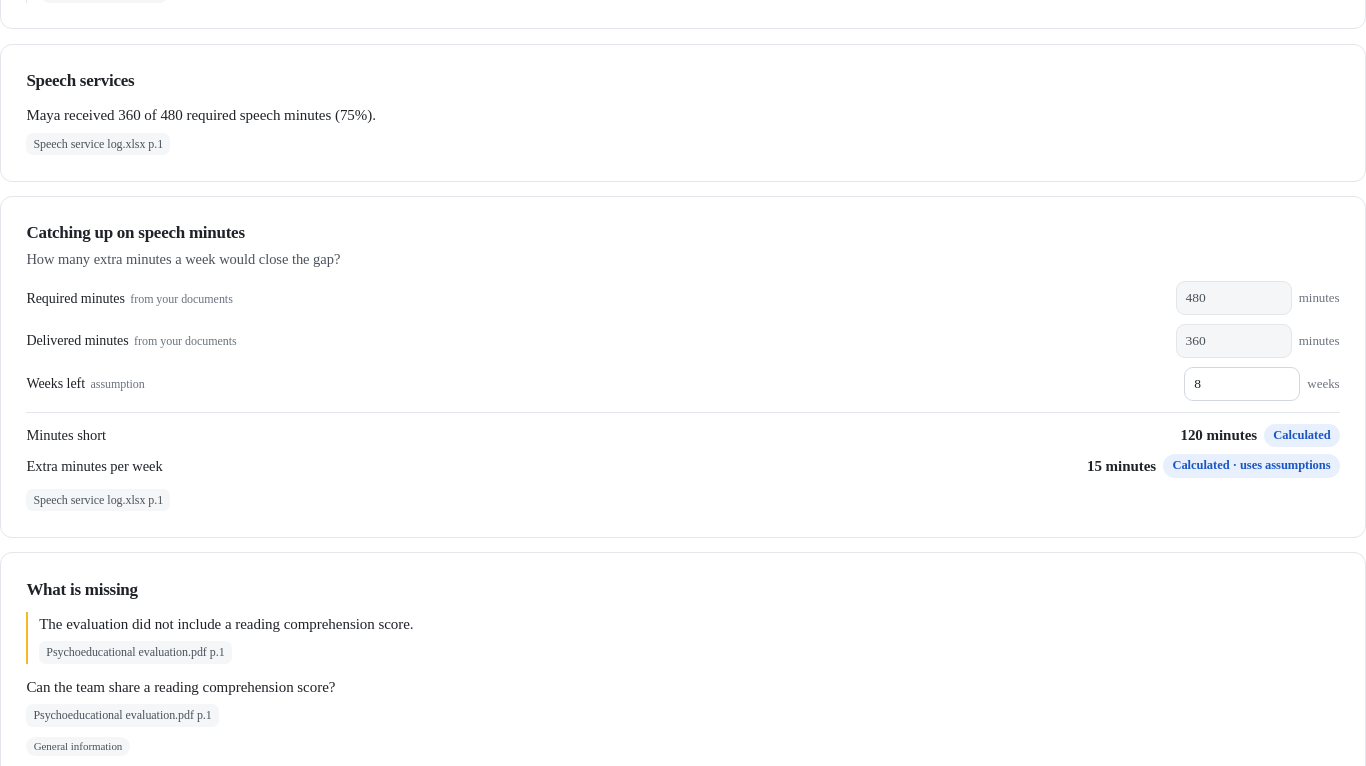
it: A2uiView › recomputes a scenario from changed assumptions only, in trusted code
(page scrolled)
Expected: the list named "Results" shows "120 minutes", x1=1180 y1=427 x2=1257 y2=443
Expected: the list named "Results" shows "15 minutes", x1=1087 y1=458 x2=1156 y2=474
Replace the text in the field labelled "Weeks left" with "4" at (1242, 384), box x1=1184 y1=367 x2=1300 y2=401
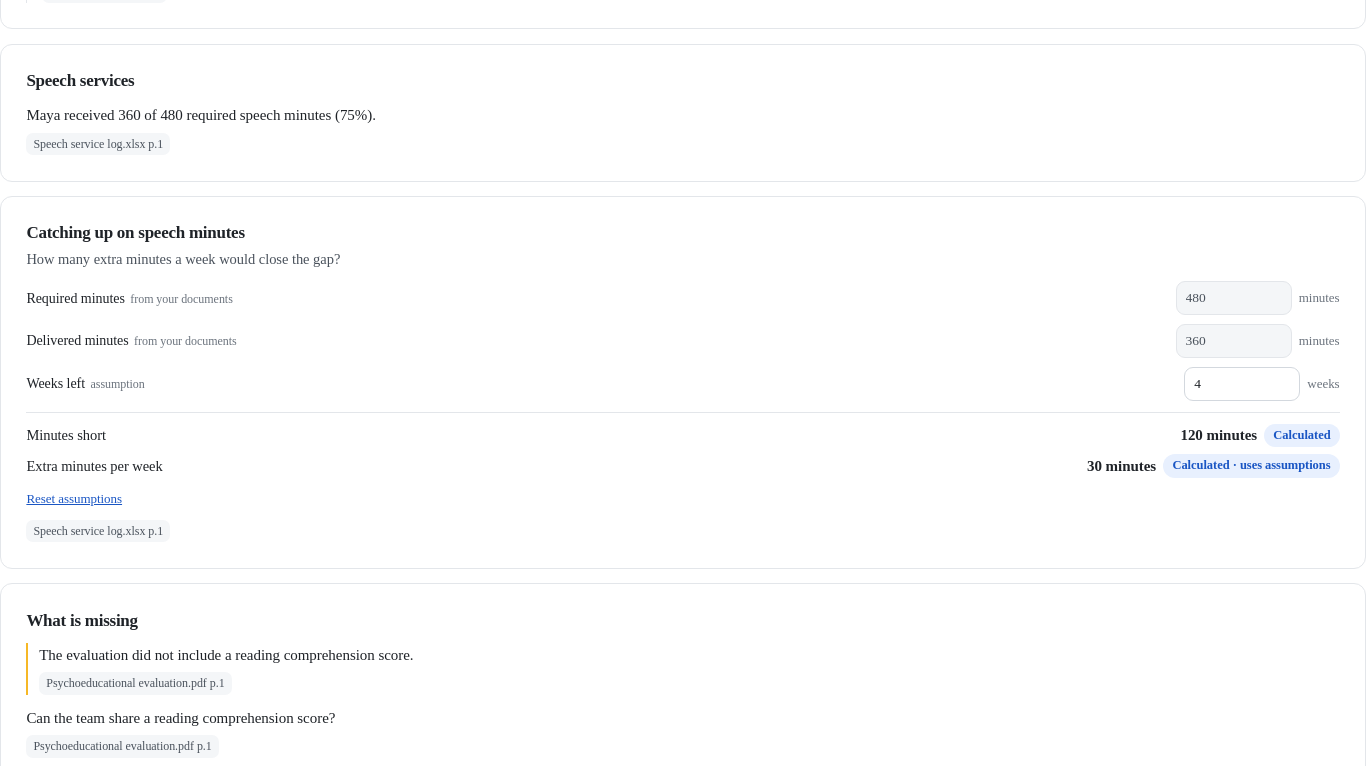
Expected: the list named "Results" shows "uses assumptions", x1=1230 y1=458 x2=1331 y2=472
Now the list named "Results" shows "30 minutes", box x1=1087 y1=458 x2=1156 y2=474
